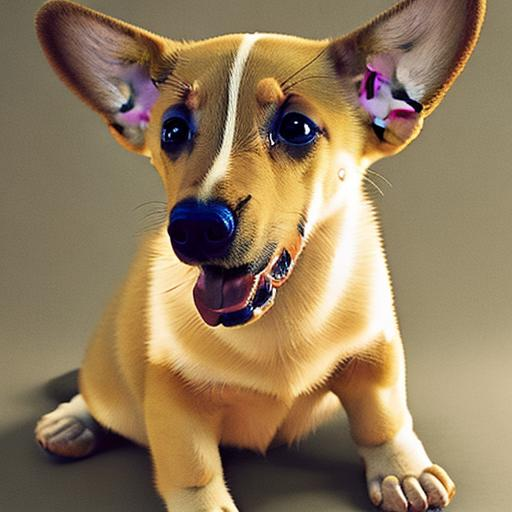eye: (266, 106, 330, 157), (157, 114, 202, 158)
